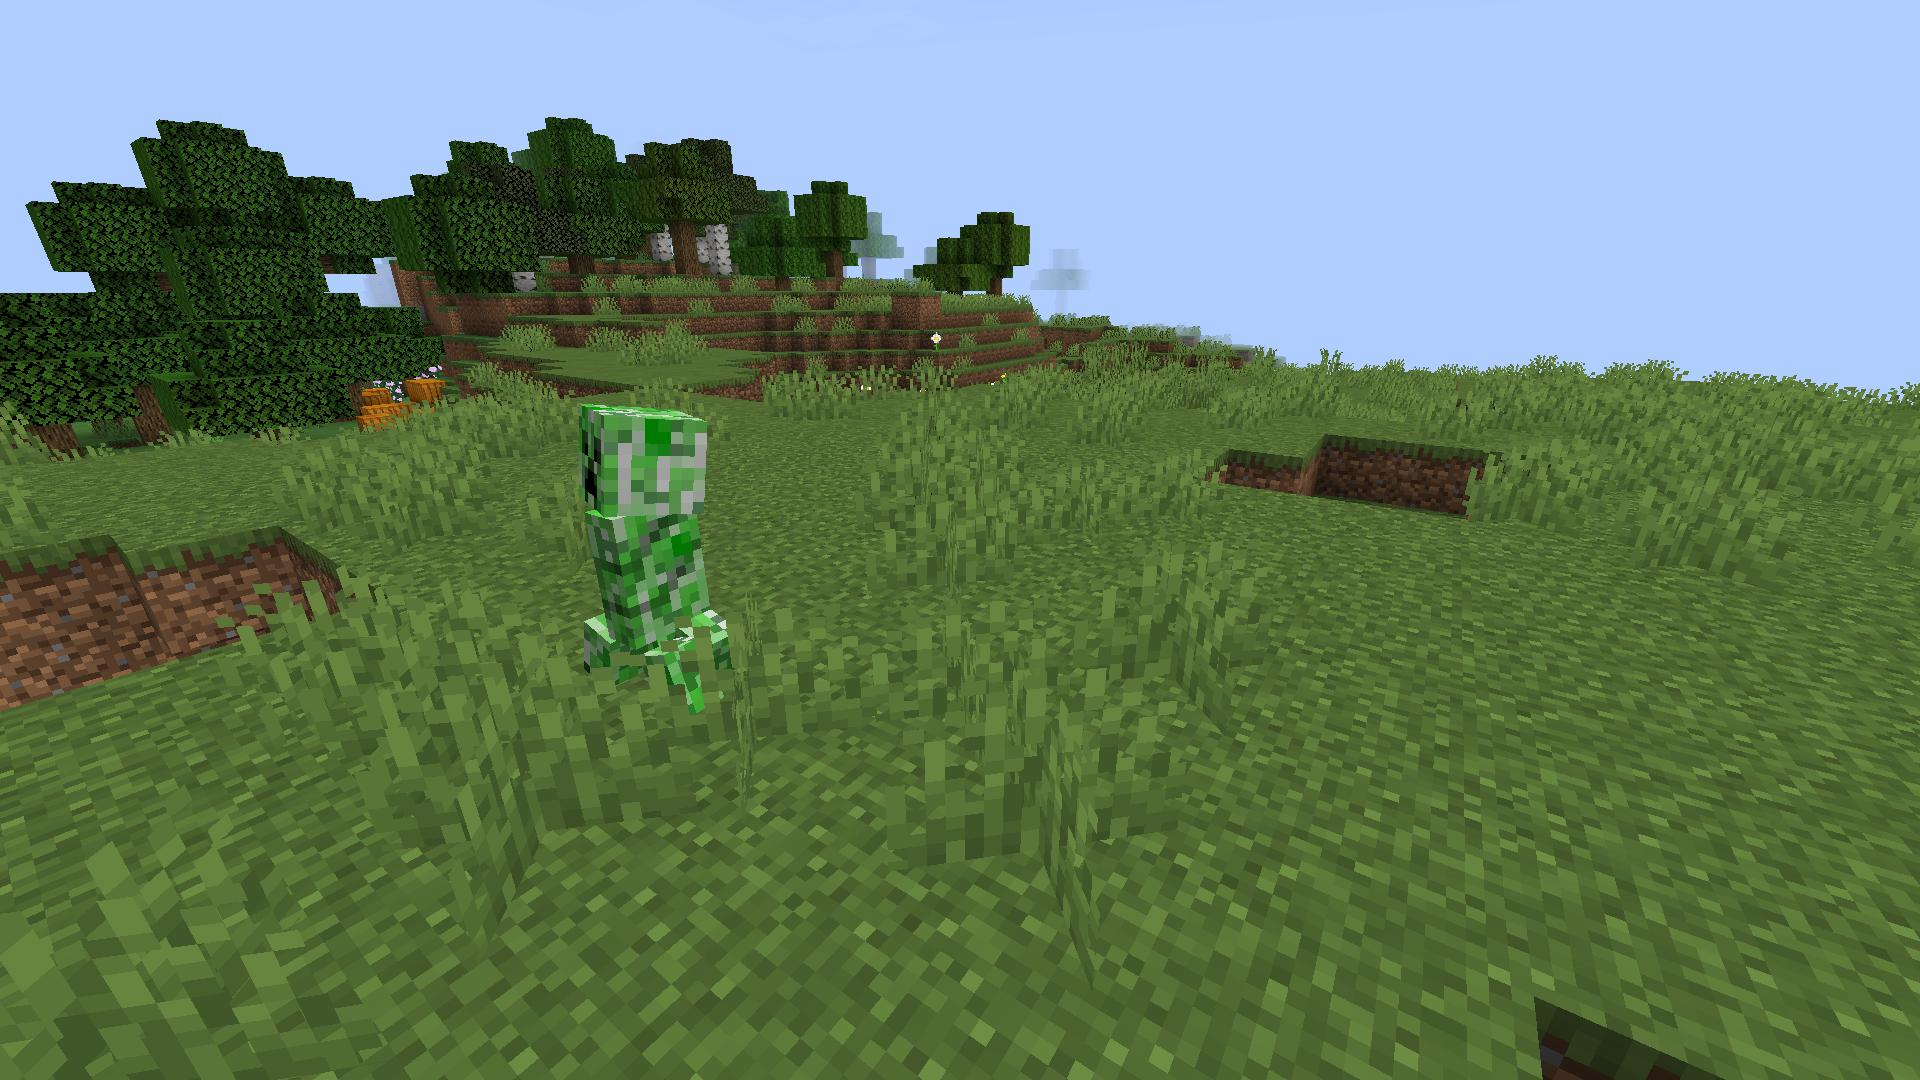creeper: (568, 394, 750, 729)
